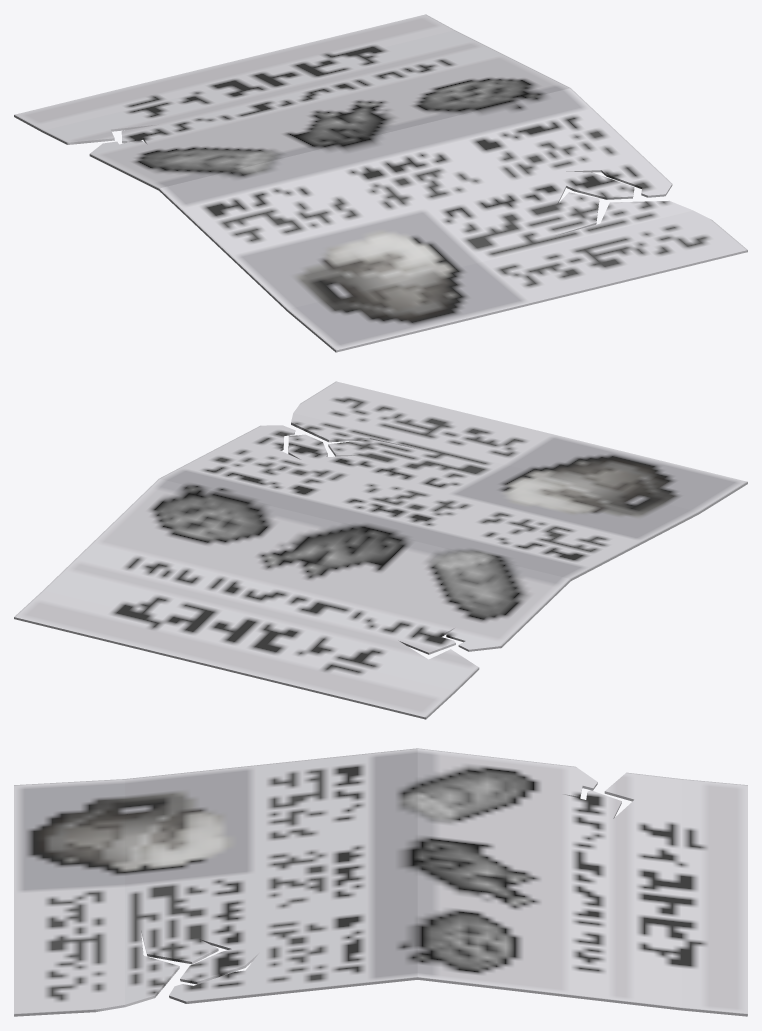
Rendered from datapaper.fbx.
The picture shows the model from 3 angles, top to bottom: view 1: azimuth 30°, elevation 25°; view 2: azimuth 150°, elevation 25°; view 3: azimuth 270°, elevation 25°; orthographic projection. The views are drawn at different scales.
Parts seen in each view (by area): view 1: 平面; view 2: 平面; view 3: 平面.
Part boxes in pixels (box(x1,y1,x2,y2)): 平面: box(14, 14, 747, 352); 平面: box(14, 381, 747, 719); 平面: box(14, 748, 747, 1016).
Bounding box in the file's own units: 200 × 16 × 271.
